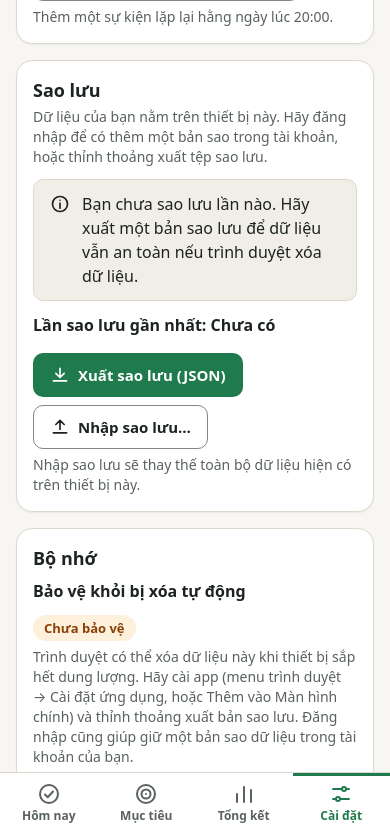
Scenario: Settings — ExportSignInHint (FR-53, M8-AC3) › vi: hint and Storage/Backup copy from DESIGN 7.7, no English leaks
(page scrolled)
Expected: the text "Chưa bảo vệ" is shown, x1=33 y1=615 x2=136 y2=641
Expected: the text with test id "storage-desc" shows "Đăng nhập cũng giúp giữ một bản sao dữ liệu trong tài khoản của bạn.", x1=33 y1=707 x2=356 y2=766
Click the button "Xuất sao lưu (JSON)". click: (138, 375)
box: x1=33 y1=353 x2=243 y2=397
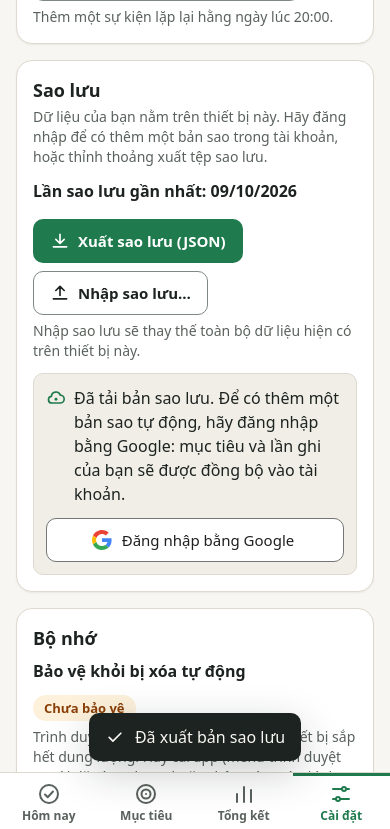
Result: the text "Đã tải bản sao lưu. Để có thêm một bản sao tự động, hãy đăng nhập bằng Google: mục tiêu và lần ghi của bạn sẽ được đồng " is shown at x1=74 y1=387 x2=339 y2=505
